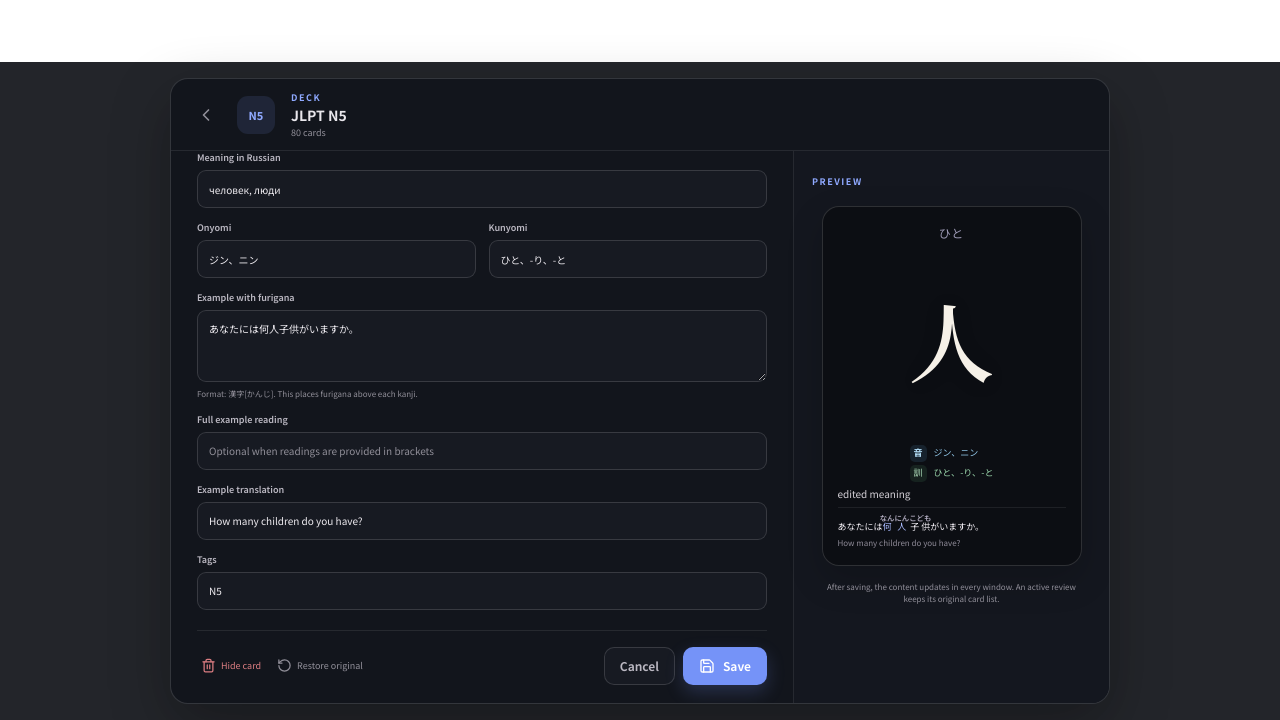
Test case: card editor preserves examples › closes a restored draft so saving cannot overwrite the original again
(page scrolled)
Click the button "Restore original" at point(320, 666), box 273,654 -> 367,677
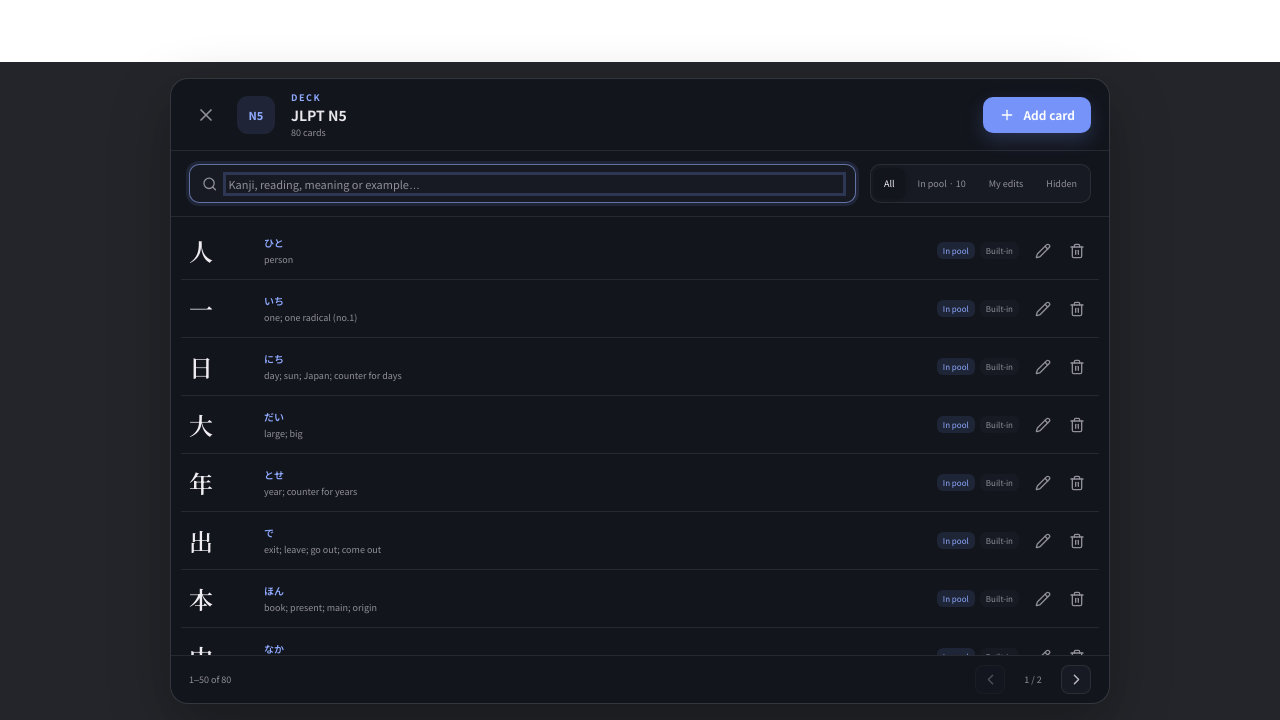
Now the button "Save" is gone
Now the text "person" is shown, box 264,253 -> 293,266
